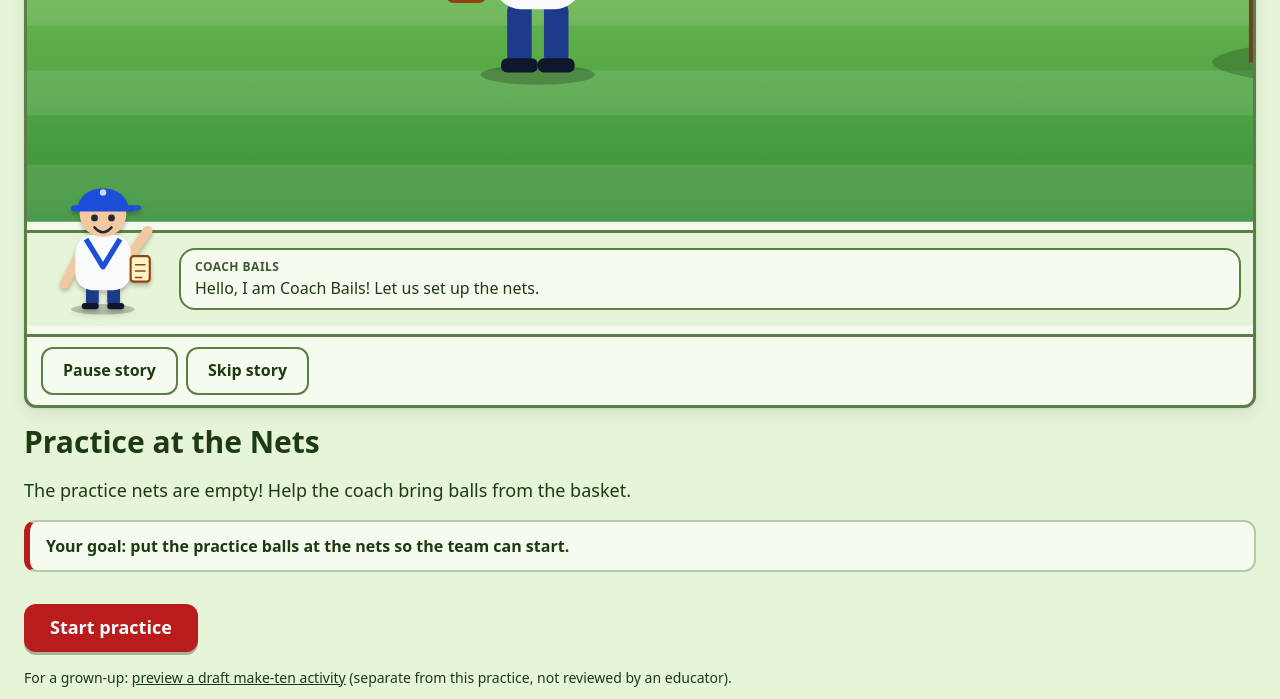
Test: Cricket mission presentation › keeps start, used and left apart, and never shows a remainder
(page scrolled)
Click the button "Start practice" at point(111, 628), box [24,604,198,652]
(page scrolled)
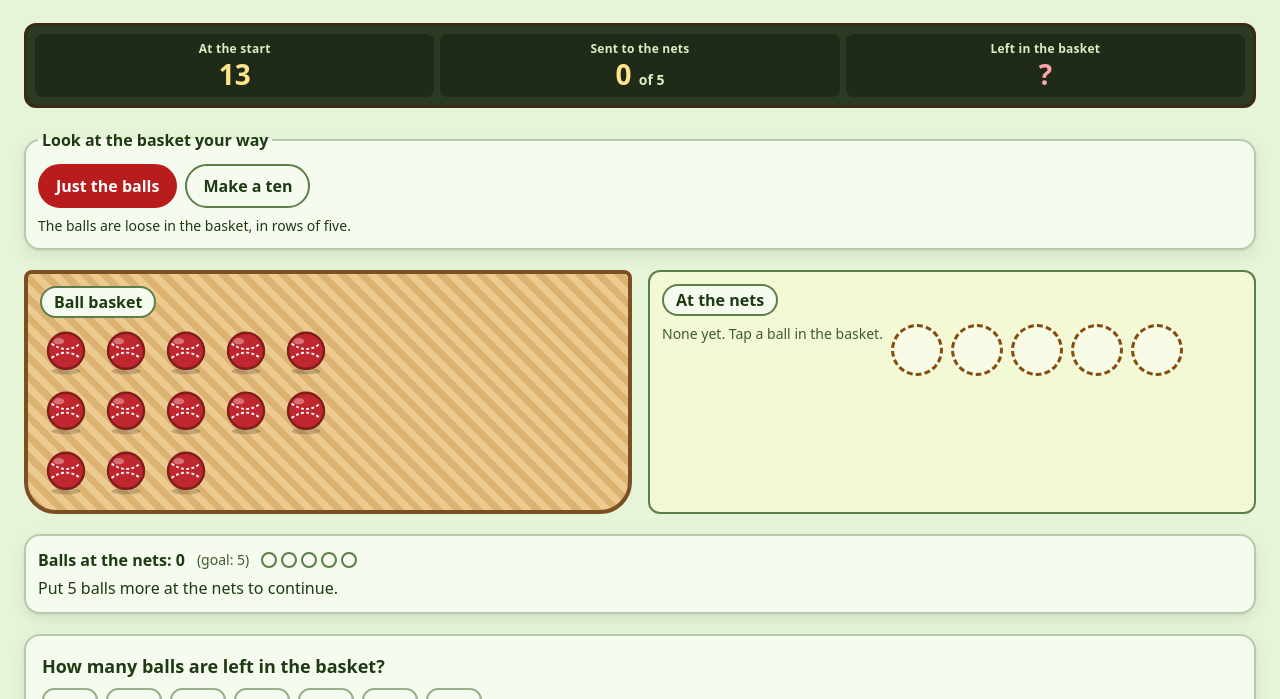
Expected: the text "13" is shown, [219,54,251,92]
Expected: the text "?" is shown, [1039,54,1052,92]
Click the button named "Ball 1, in the basket. Press to put it at the nets." at point(66, 352), box [40,326,92,378]
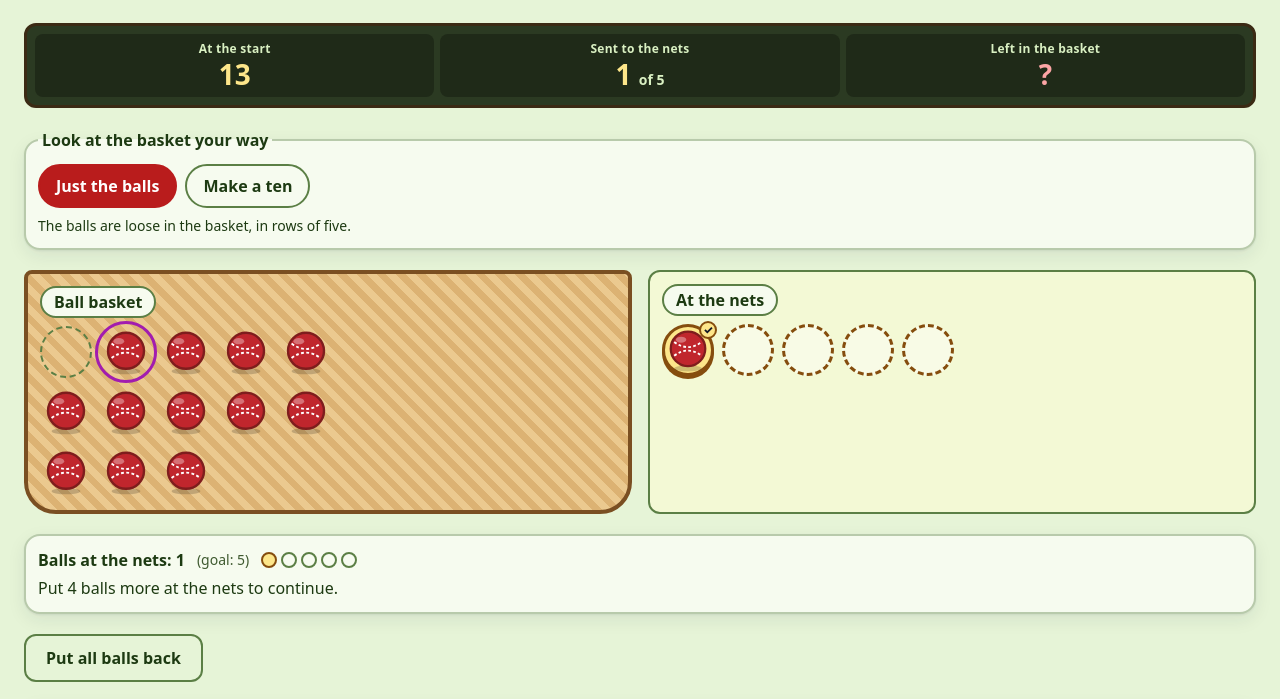
Click the button named "Ball 2, in the basket. Press to put it at the nets." at point(126, 352), box [100,326,152,378]
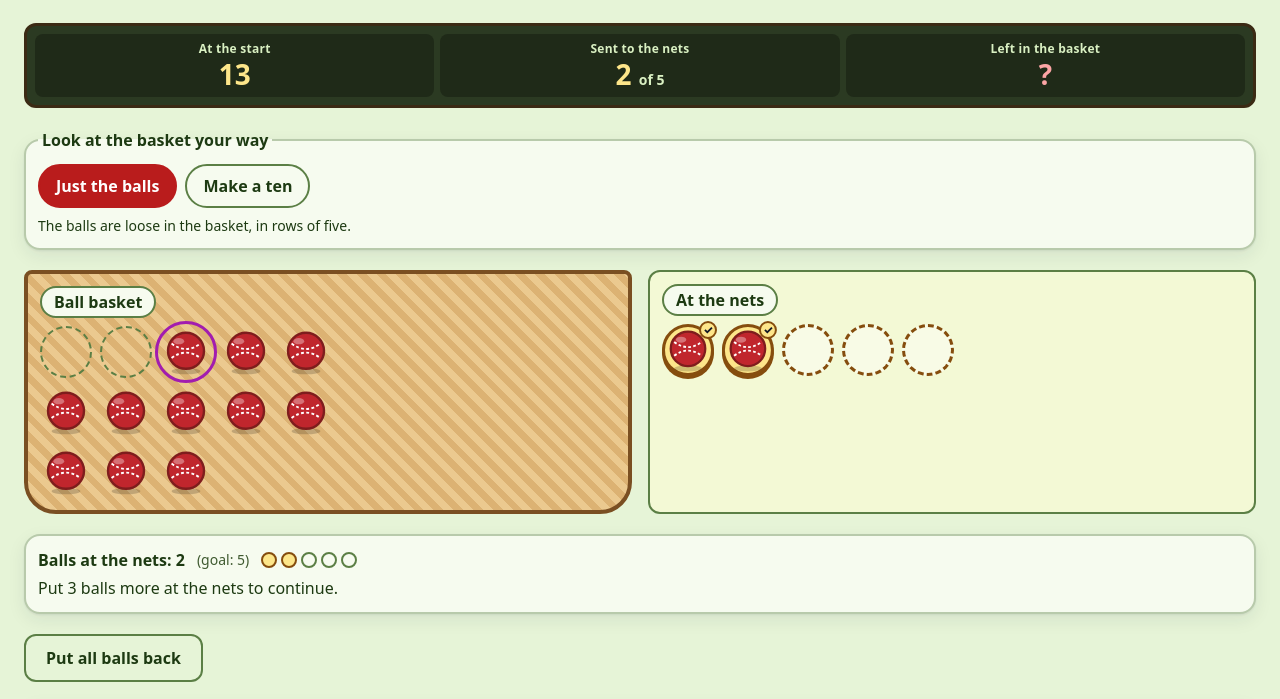
Click the button named "Ball 3, in the" at point(186, 352), box [160,326,212,378]
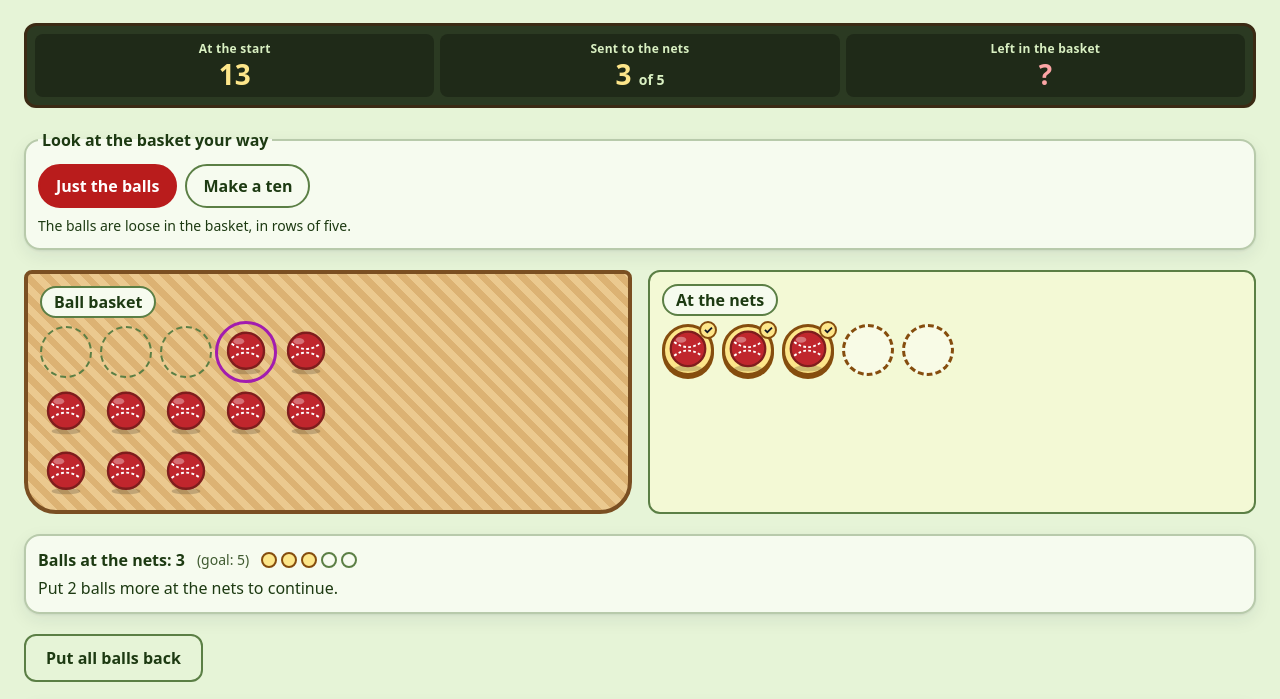
Click the button named "Ball 4, in the basket. Press to put it at the nets." at point(246, 352), box [220,326,272,378]
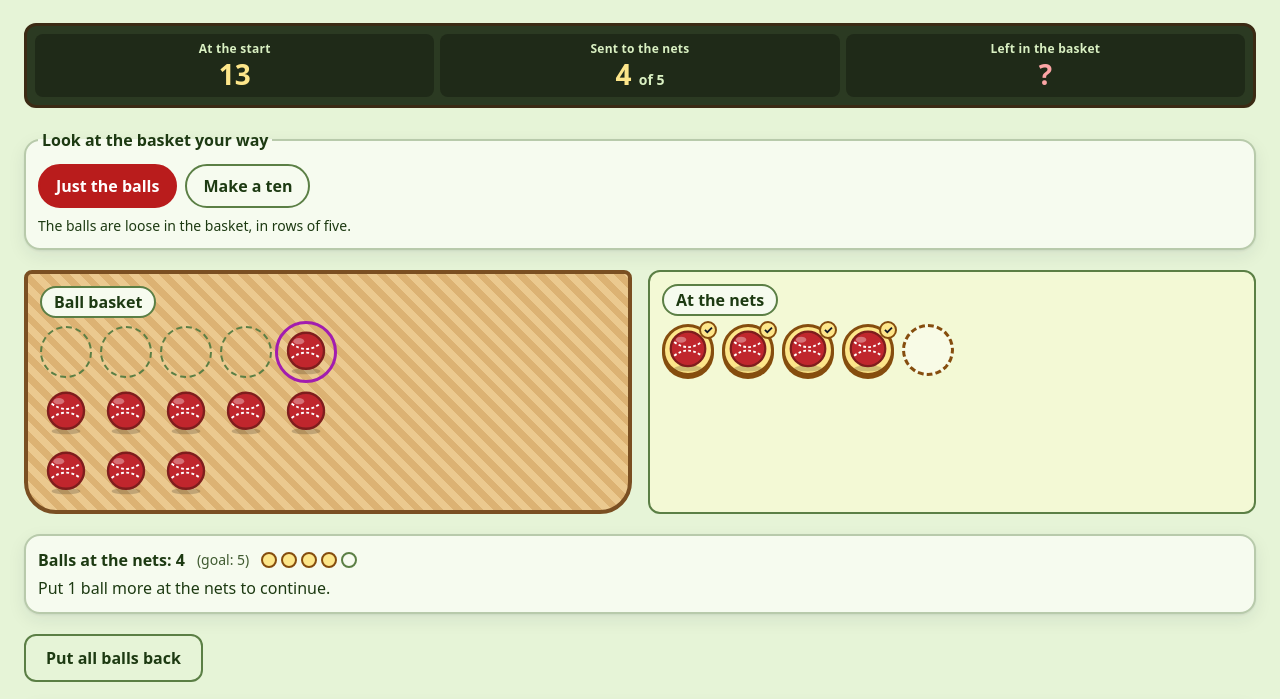
Click the button named "Ball 5, in the basket. Press to put it at the nets." at point(306, 352), box [280,326,332,378]
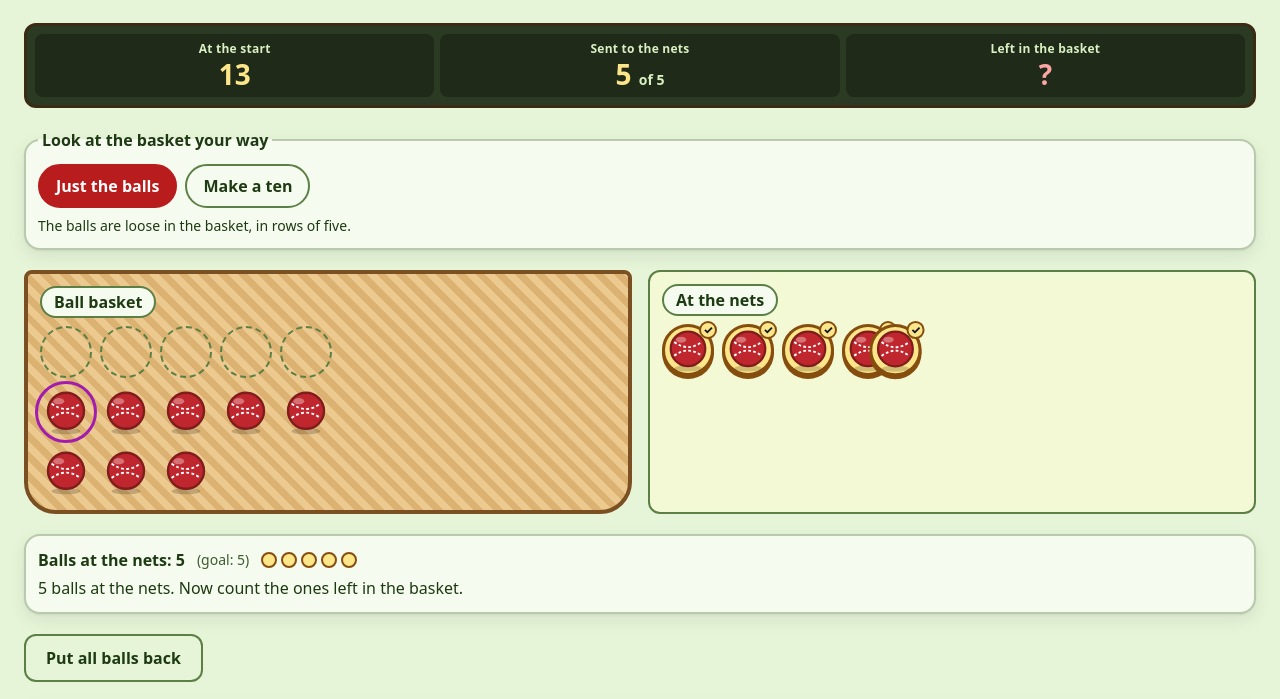
Expected: the element showing "5 of 5" is shown, [616,54,665,92]
